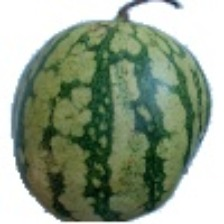watermelon: (0, 35, 198, 218)
